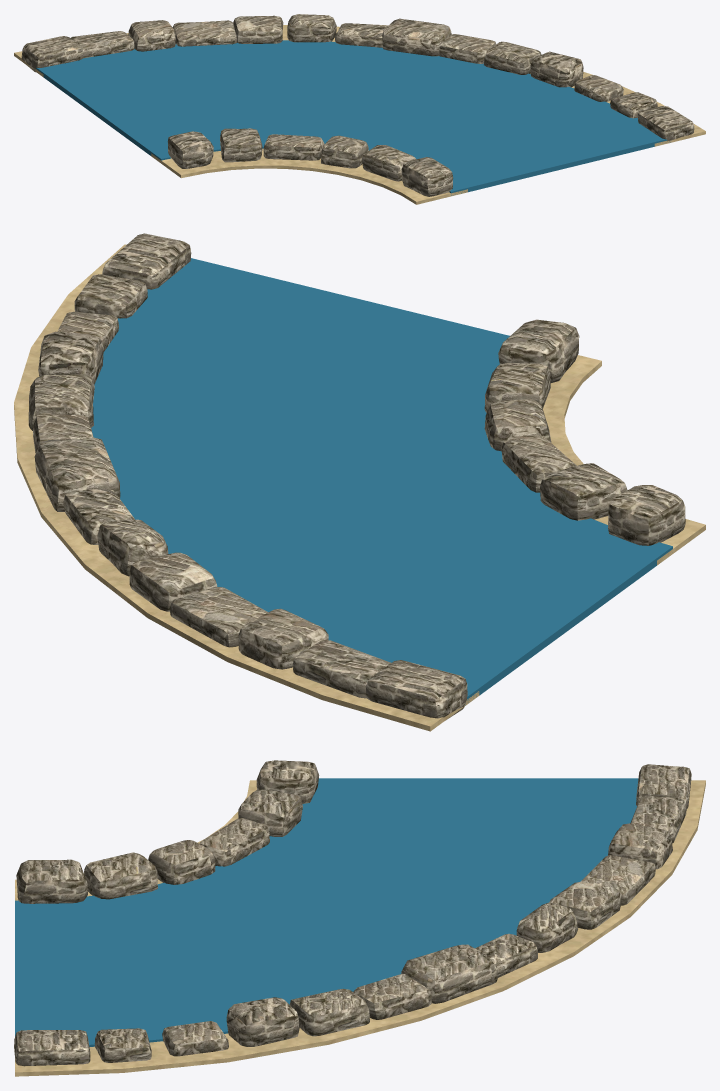
File: water_river-bend.glb
3 renders of one model, top to bottom at view 1: azimuth 30°, elevation 25°; view 2: azimuth 150°, elevation 25°; view 3: azimuth 270°, elevation 25°, orthographic. The views are drawn at different scales.
Visible parts, largest first — view 1: water.001, stone, sand; view 2: water.001, stone, sand; view 3: water.001, stone, sand.
Boxes of the visible parts, left/top/right/bottom form: water.001: left=36, top=40, right=670, bottom=195; stone: left=21, top=14, right=694, bottom=196; sand: left=14, top=25, right=705, bottom=204; water.001: left=91, top=258, right=672, bottom=705; stone: left=28, top=233, right=685, bottom=719; sand: left=14, top=244, right=705, bottom=731; water.001: left=15, top=778, right=638, bottom=1046; stone: left=14, top=760, right=691, bottom=1066; sand: left=15, top=780, right=705, bottom=1076.
Size of the model in its own units: 5.98 by 0.3756 by 5.98.
Materials: 3 (2 with a texture image).
